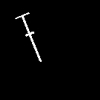double_crochet: (16, 13, 40, 61)
